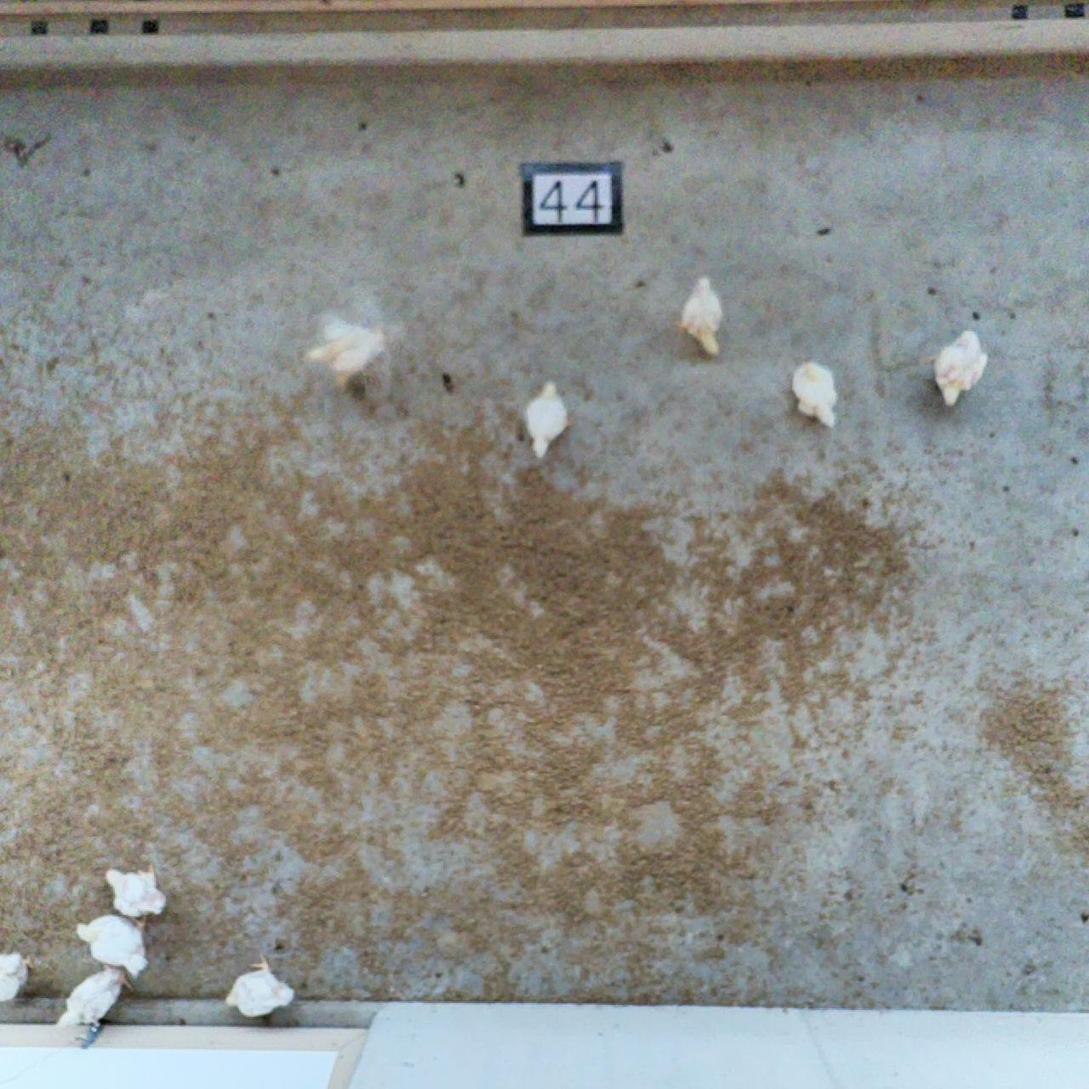chicken: (298, 309, 393, 395), (55, 964, 134, 1033), (224, 953, 298, 1021), (74, 912, 151, 976), (932, 328, 989, 408), (677, 273, 725, 357), (522, 377, 571, 458), (790, 357, 839, 430), (104, 867, 168, 920), (1, 949, 34, 1003)
